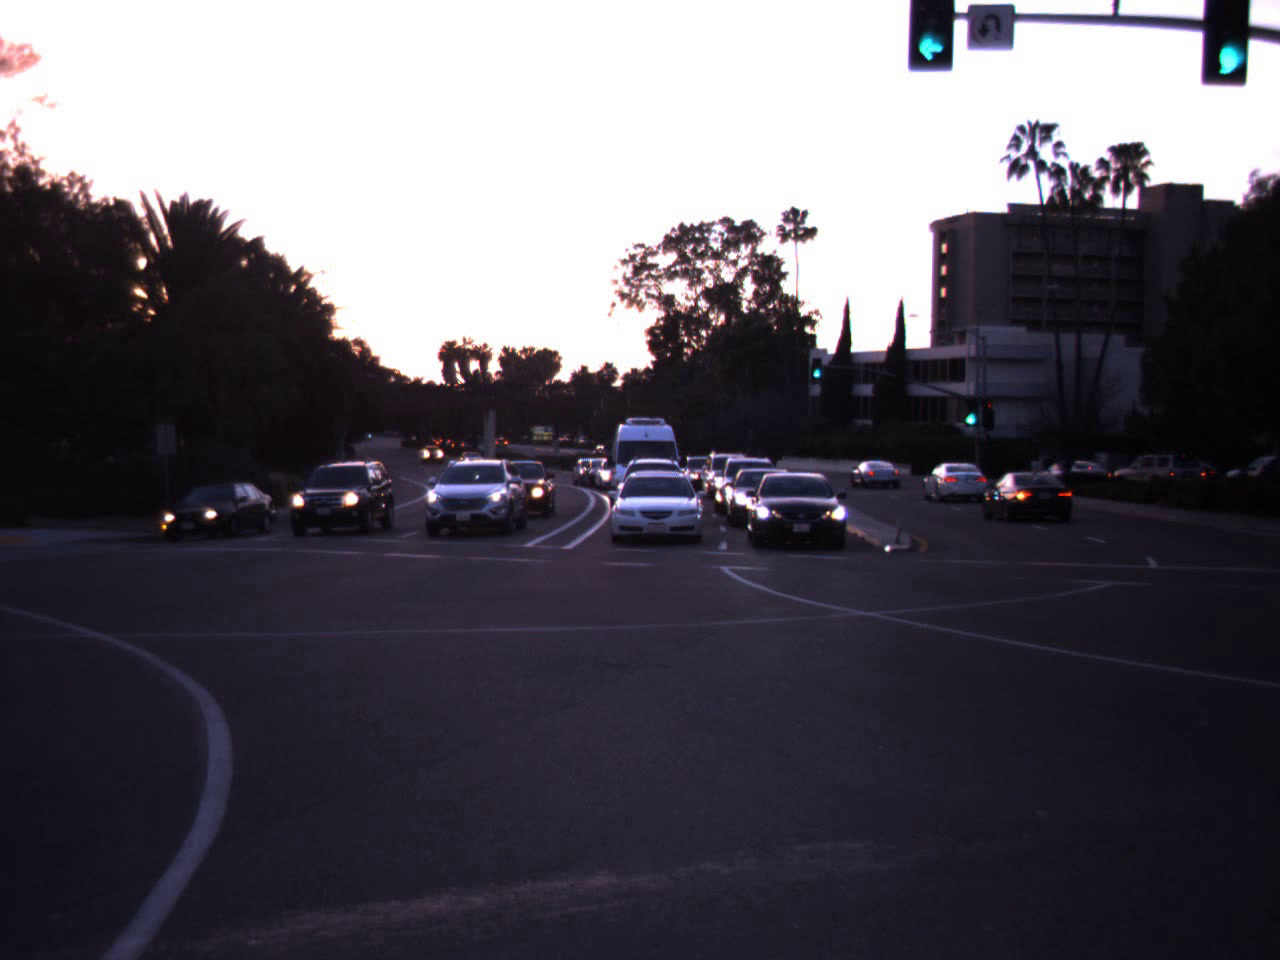go: (888, 0, 972, 75), (1193, 0, 1265, 87), (948, 375, 990, 430), (809, 350, 824, 380)
